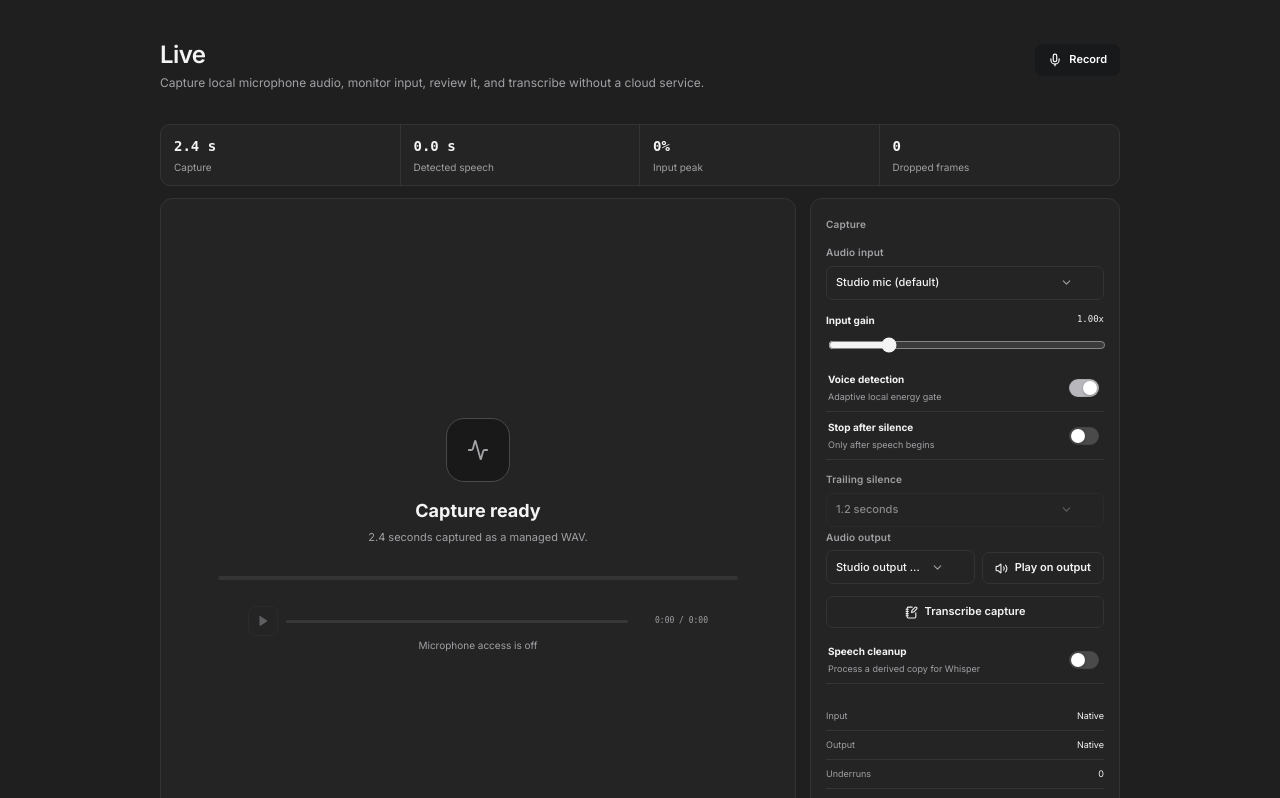
Test case: Live capture › passes speech cleanup only when the user opts in
Click the checkbox labelled "Speech cleanup" at (1084, 660), box [1069, 651, 1099, 669]
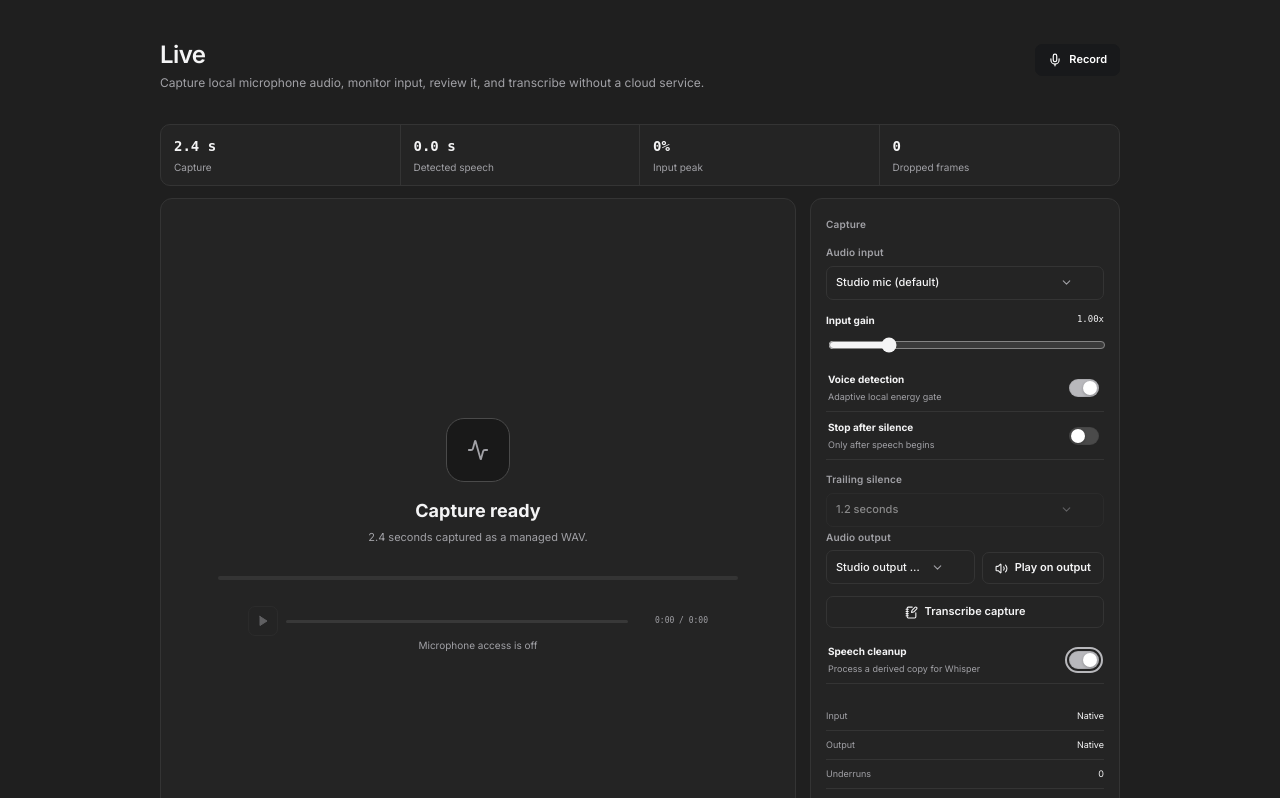
Click the button "Transcribe capture" at (965, 612), box [826, 596, 1104, 628]
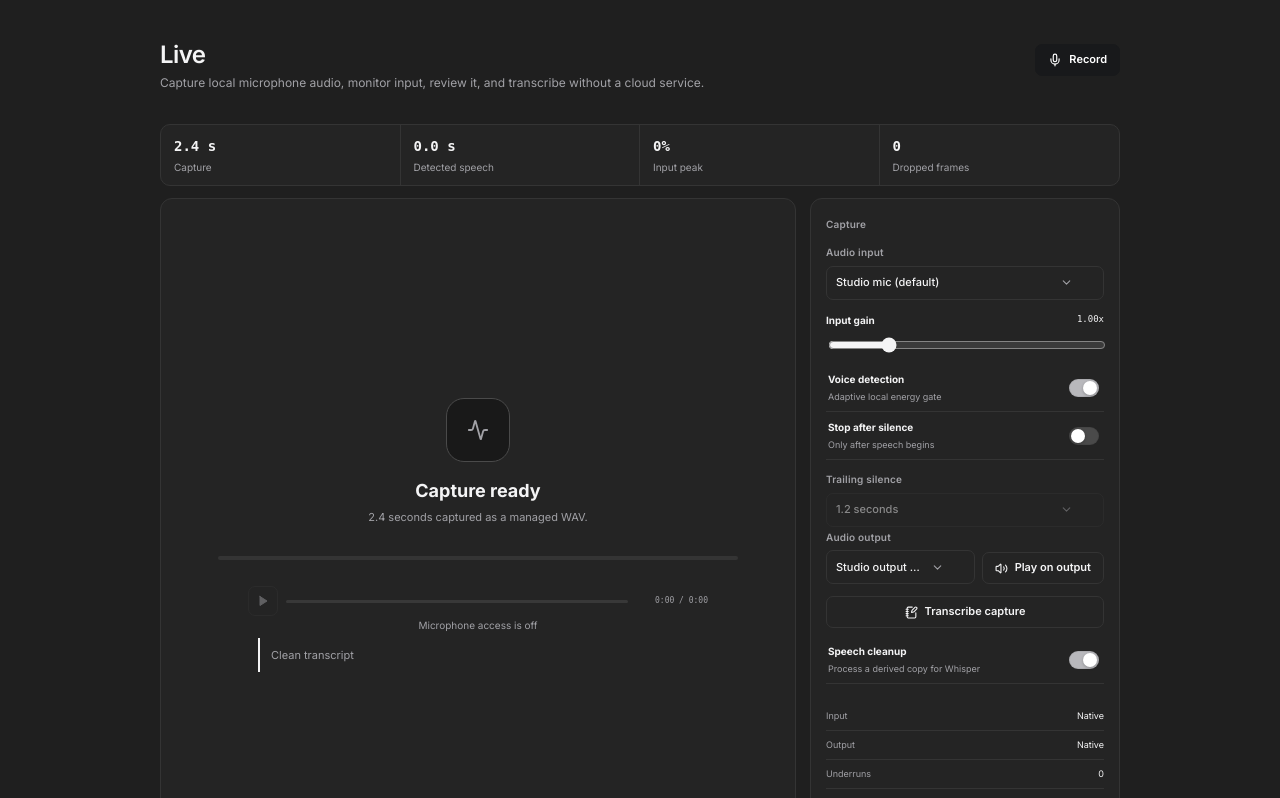
Now the text "Clean transcript" is shown, box [258, 638, 698, 672]
